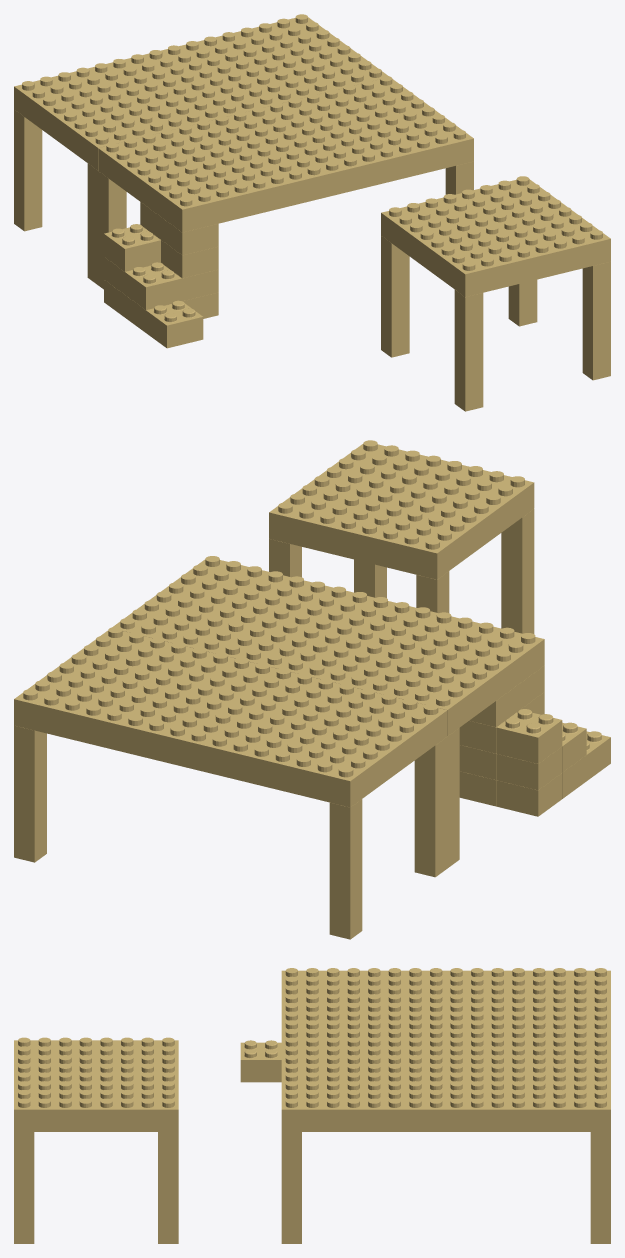
File: LevelPart0.fbx
3 renders of one model, top to bottom at view 1: azimuth 30°, elevation 25°; view 2: azimuth 150°, elevation 25°; view 3: azimuth 270°, elevation 25°, orthographic. The views are drawn at different scales.
Parts seen in each view (by area): view 1: Part.12, Part.16, Part.20, Part.24, Part.21, Part.18, Part.23, Part.19, Part.15, Part.14, Part.13, Part.8 (+5 smaller); view 2: Part.16, Part.12, Part.20, Part.19, Part.18, Part.17, Part.24, Part.13, Part.2, Part.1, Part.23, Part.22 (+9 smaller); view 3: Part.12, Part.16, Part.20, Part.11, Part.17, Part.21, Part.22, Part.15.
Part boxes in pixels (<box>): Part.12: <box>98,76,473,232</box>; Part.16: <box>14,14,388,170</box>; Part.20: <box>381,176,610,296</box>; Part.24: <box>454,290,483,411</box>; Part.21: <box>582,261,610,380</box>; Part.18: <box>14,109,42,231</box>; Part.23: <box>381,236,409,357</box>; Part.19: <box>87,163,126,289</box>; Part.15: <box>146,300,203,348</box>; Part.14: <box>125,262,182,309</box>; Part.13: <box>104,224,160,271</box>; Part.8: <box>161,240,218,278</box>; Part.16: <box>14,627,447,807</box>; Part.12: <box>112,556,544,736</box>; Part.20: <box>269,440,534,579</box>; Part.19: <box>414,728,459,877</box>; Part.18: <box>329,799,362,939</box>; Part.17: <box>14,725,46,862</box>; Part.24: <box>501,509,534,633</box>; Part.13: <box>496,709,562,763</box>; Part.2: <box>496,746,562,790</box>; Part.1: <box>496,773,562,816</box>; Part.23: <box>416,571,449,613</box>; Part.22: <box>269,539,301,577</box>; Part.12: <box>281,968,446,1131</box>; Part.16: <box>446,968,610,1131</box>; Part.20: <box>14,1037,178,1131</box>; Part.11: <box>281,1132,301,1243</box>; Part.17: <box>590,1132,610,1243</box>; Part.21: <box>14,1132,34,1243</box>; Part.22: <box>158,1132,178,1243</box>; Part.15: <box>240,1040,281,1082</box>.
Bounding box in the file's own units: 17.62 × 7.27 × 28.39.
